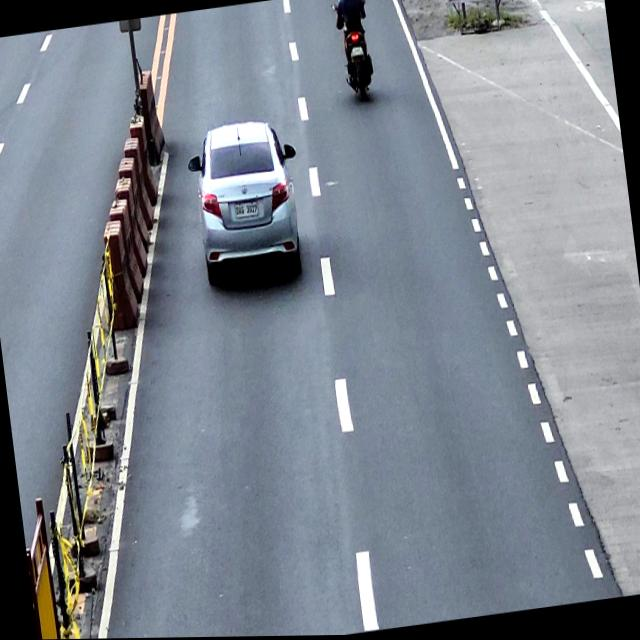Car: (182, 114, 310, 287)
License-Plate: (232, 198, 260, 221), (350, 46, 364, 59)
Motorcycle: (330, 0, 378, 104)
